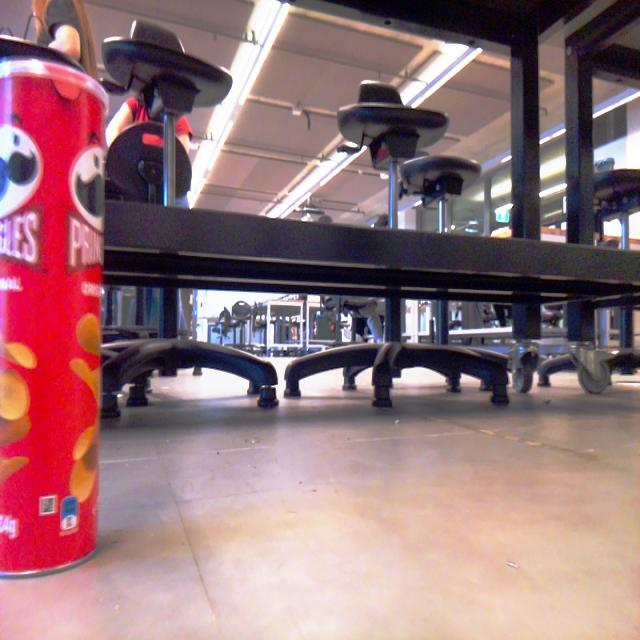redpringles: (0, 40, 133, 589)
